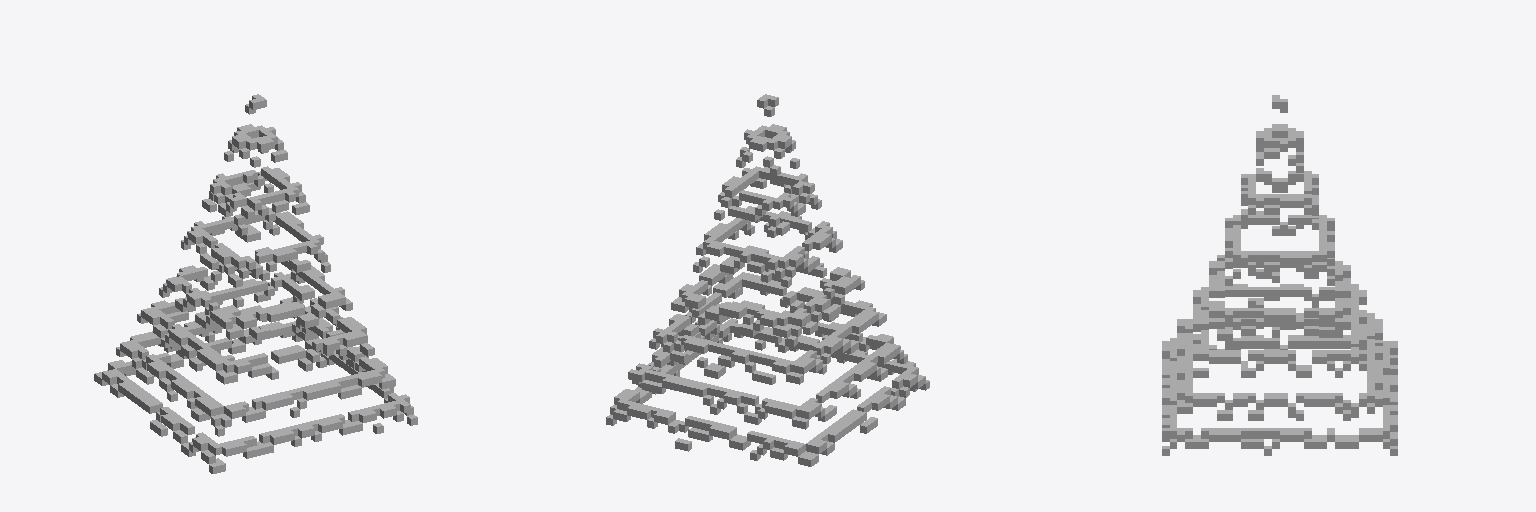
3 views of the same model, side by side, from view 1: azimuth 30°, elevation 25°; view 2: azimuth 150°, elevation 25°; view 3: azimuth 270°, elevation 25° (orthographic).
Parts seen in each view (by area): view 1: object 1; view 2: object 1; view 3: object 1.
Part boxes in pixels (x1,y1,x2,y2): object 1: (94, 94, 417, 473); object 1: (606, 94, 929, 466); object 1: (1162, 95, 1397, 455).
Bounding box in the file's own units: 3 × 4.4 × 3.
Materials: 1 (1 with a texture image).